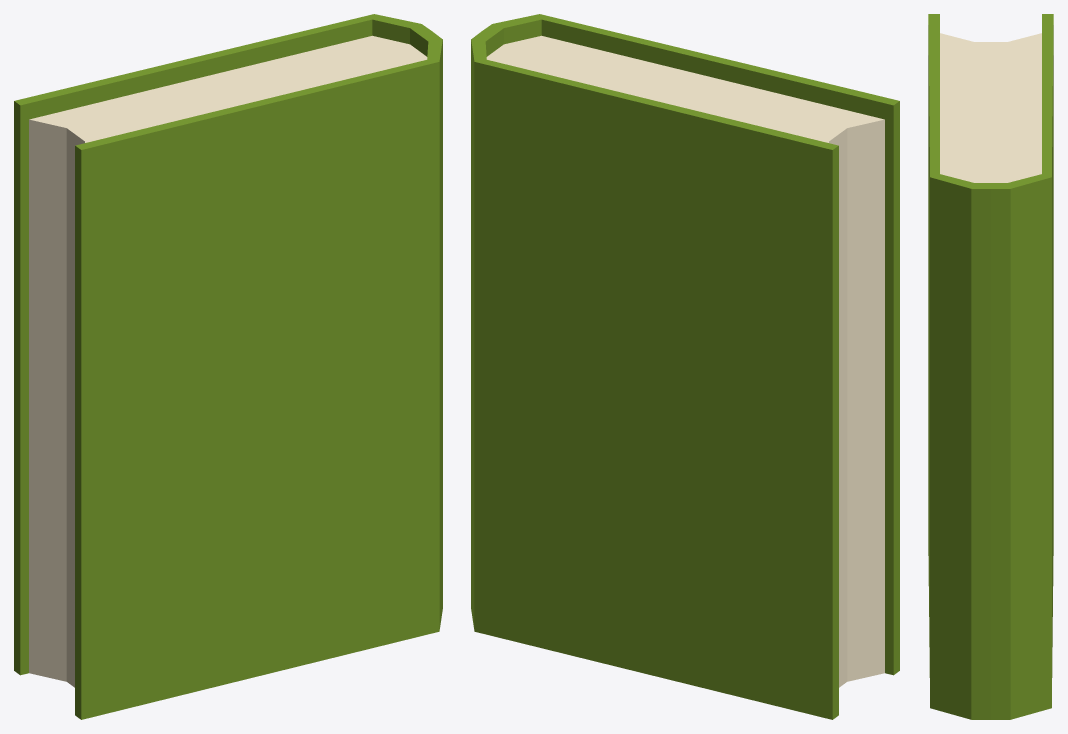
The model's file is Book_06.fbx.
3 renders of one model, left to right at view 1: azimuth 30°, elevation 25°; view 2: azimuth 150°, elevation 25°; view 3: azimuth 270°, elevation 25°, orthographic. The views are drawn at different scales.
Parts seen in each view (by area): view 1: Plane.216; view 2: Plane.216; view 3: Plane.216.
Boxes of the visible parts, x1,y1,x2,y2 form: Plane.216: [14, 14, 442, 719]; Plane.216: [471, 14, 899, 719]; Plane.216: [928, 14, 1053, 719].
Bounding box in the file's own units: 0.3964 × 0.1198 × 0.5608.
